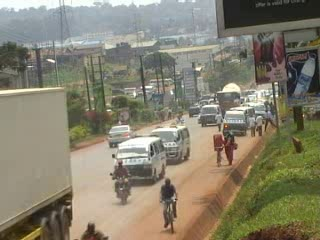Car: (104, 123, 139, 149), (184, 104, 203, 117)
Motorcycle: (107, 163, 136, 205), (73, 222, 113, 239), (172, 113, 187, 126)
